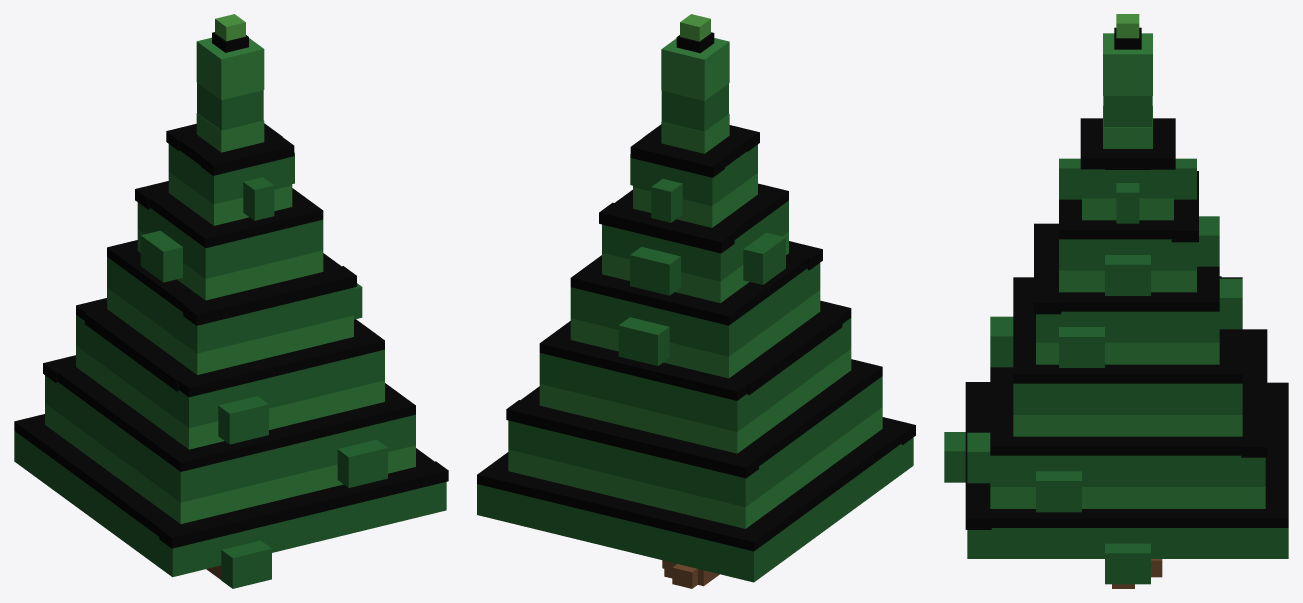
Rendered from SnowPineTall.obj.
3 renders of one model, left to right at view 1: azimuth 30°, elevation 25°; view 2: azimuth 150°, elevation 25°; view 3: azimuth 270°, elevation 25°, orthographic.
Parts seen in each view (by area): view 1: SnowPineTall; view 2: SnowPineTall; view 3: SnowPineTall.
Boxes of the visible parts, x1,y1,x2,y2 form: SnowPineTall: (14, 14, 448, 588); SnowPineTall: (477, 14, 915, 588); SnowPineTall: (944, 14, 1288, 588).
Bounding box in the file's own units: 15.07 × 26.7 × 15.
